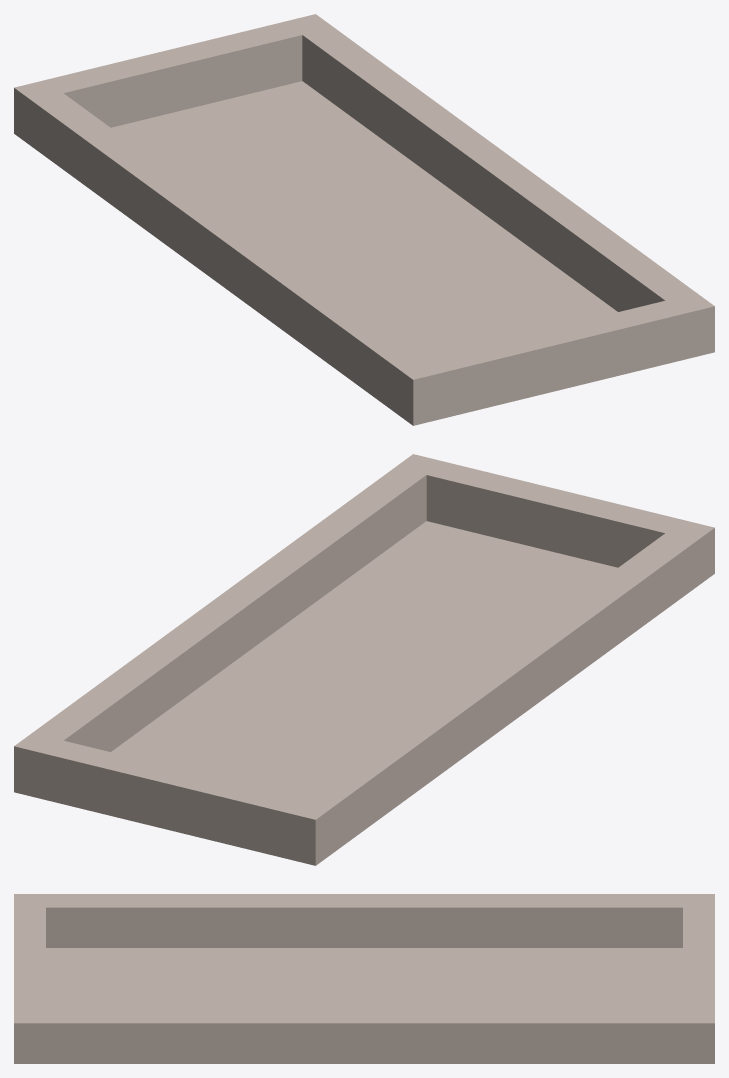
The model's file is floor-collision.dae.
3 views of the same model, one above another, from view 1: azimuth 30°, elevation 25°; view 2: azimuth 150°, elevation 25°; view 3: azimuth 270°, elevation 25° (orthographic). The views are drawn at different scales.
Parts seen in each view (by area): view 1: Plane; view 2: Plane; view 3: Plane.
Part boxes in pixels (<box>): Plane: <box>14,14,714,425</box>; Plane: <box>14,454,714,865</box>; Plane: <box>14,894,714,1063</box>.
Bounding box in the file's own units: 4.8 × 11 × 0.7.
